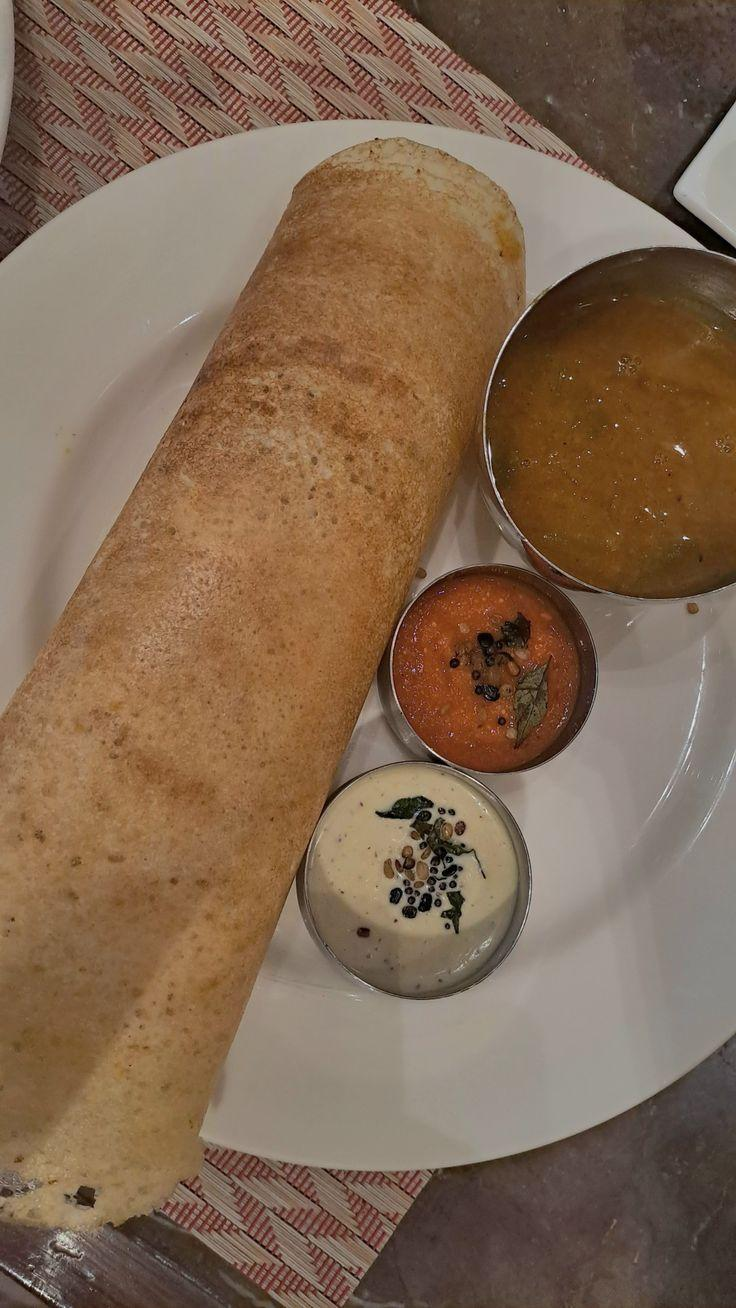dosa: (32, 116, 478, 1201)
